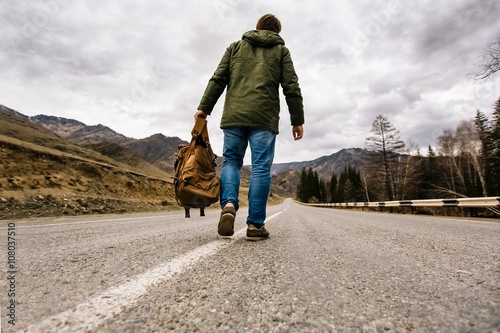person: (175, 11, 307, 242)
